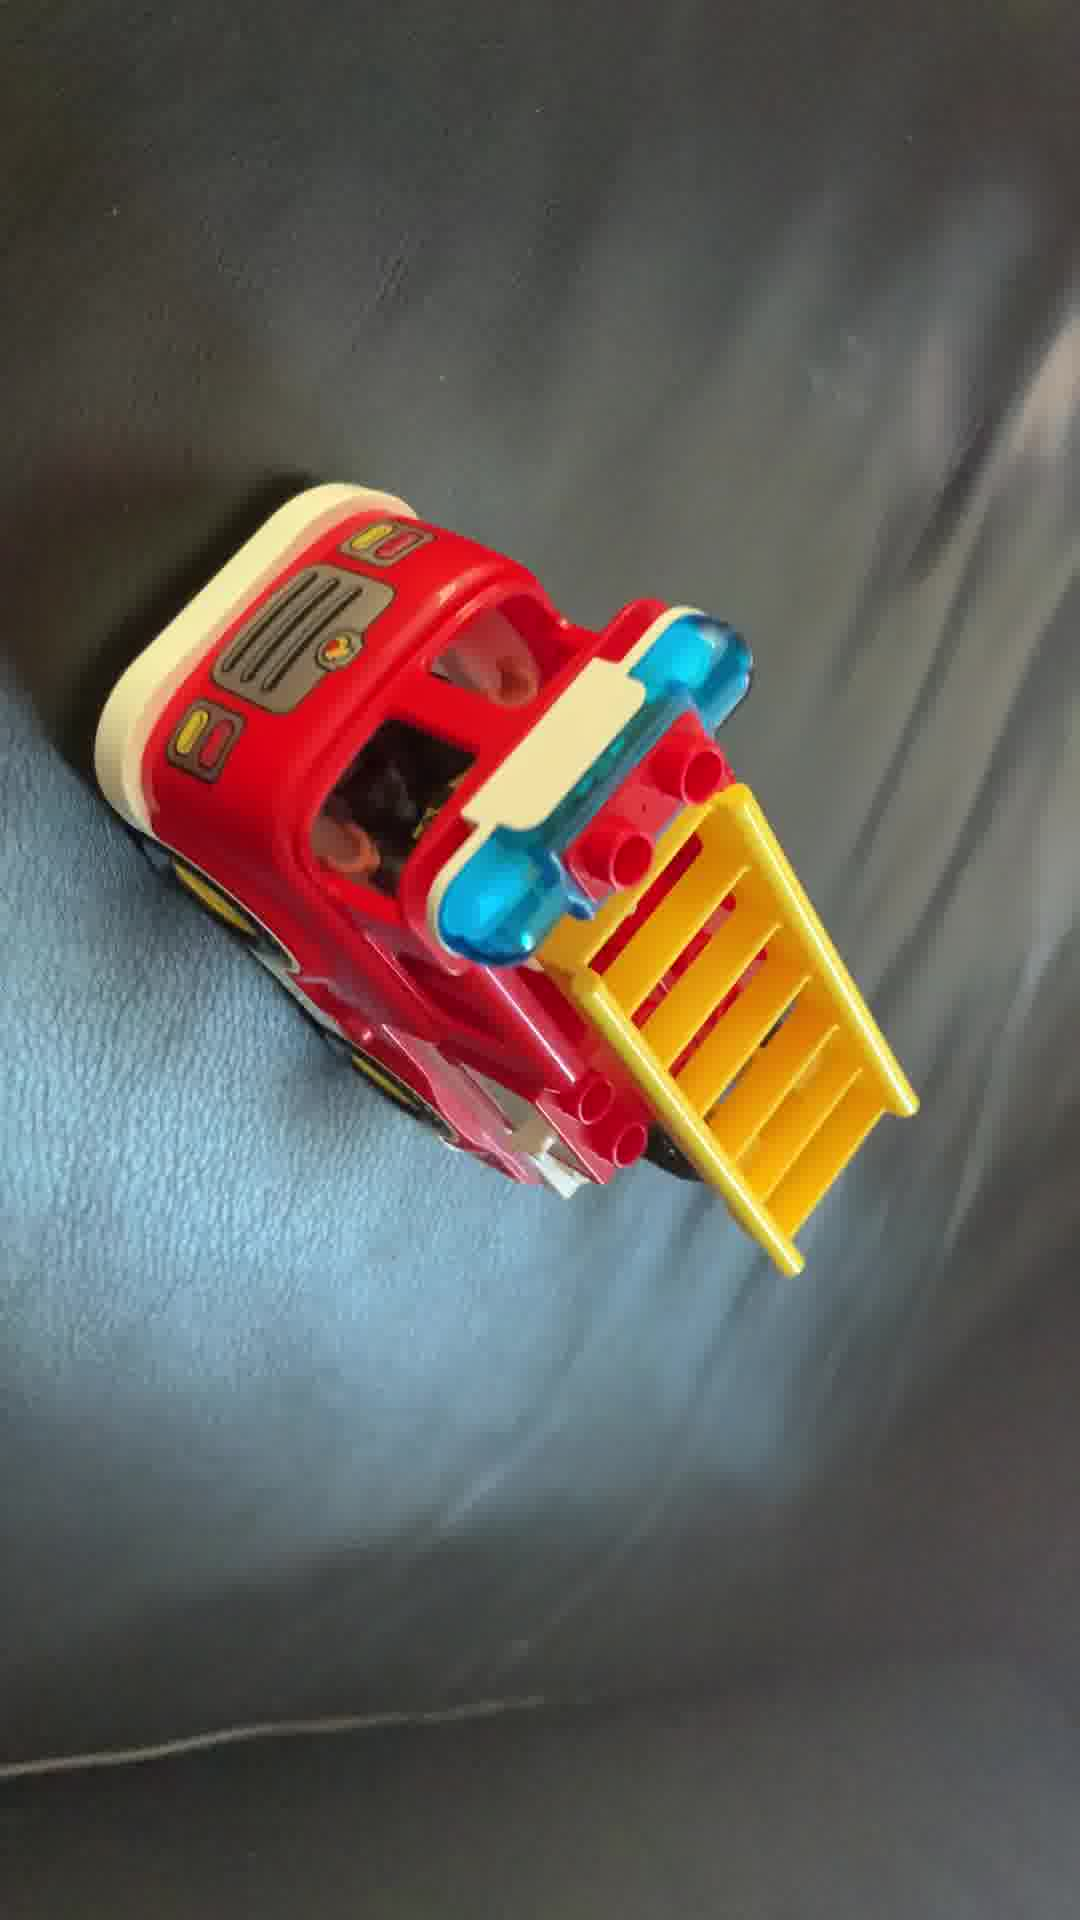lego fire truck: (73, 452, 932, 1295)
